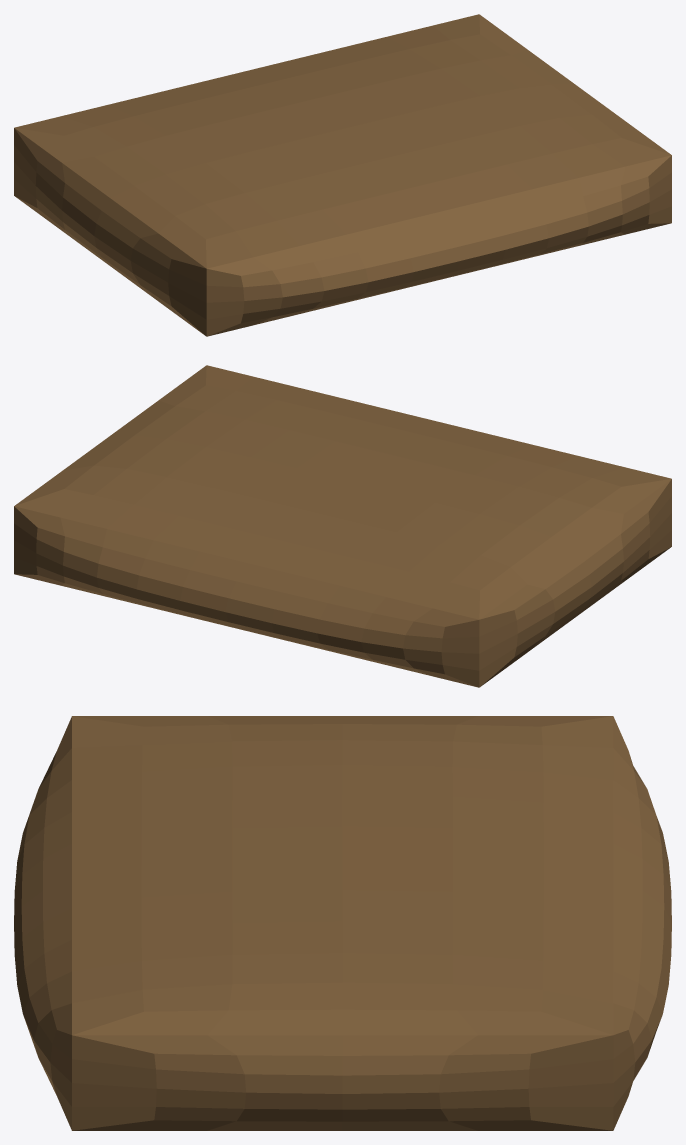
The model's file is volcano_cement_bag.fbx.
3 renders of one model, top to bottom at view 1: azimuth 30°, elevation 25°; view 2: azimuth 150°, elevation 25°; view 3: azimuth 270°, elevation 25°, orthographic. The views are drawn at different scales.
Parts seen in each view (by area): view 1: cement_bag; view 2: cement_bag; view 3: cement_bag.
Boxes of the visible parts, bbox=[...] form: cement_bag: bbox=[14, 14, 671, 336]; cement_bag: bbox=[14, 365, 671, 687]; cement_bag: bbox=[14, 716, 671, 1130].
Bounding box in the file's own units: 99.81 × 15.45 × 81.36.
